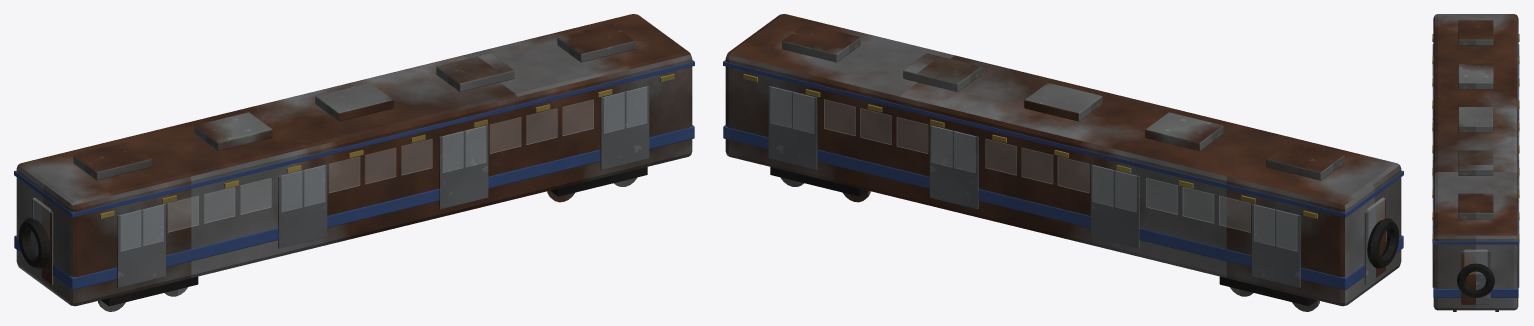
Rendered from R01_metro_train_carriage.glb.
The picture shows the model from 3 angles, left to right: view 1: azimuth 30°, elevation 25°; view 2: azimuth 150°, elevation 25°; view 3: azimuth 270°, elevation 25°; orthographic projection. The views are drawn at different scales.
Parts seen in each view (by area): view 1: R01_metro_train_carriage; view 2: R01_metro_train_carriage; view 3: R01_metro_train_carriage.
Part boxes in pixels (x1=…): R01_metro_train_carriage: x1=14, y1=14, x2=694, y2=311; R01_metro_train_carriage: x1=723, y1=14, x2=1403, y2=311; R01_metro_train_carriage: x1=1432, y1=14, x2=1519, y2=311.
Bounding box in the file's own units: 18 × 3.72 × 2.87.
8 materials, 7 textured.
